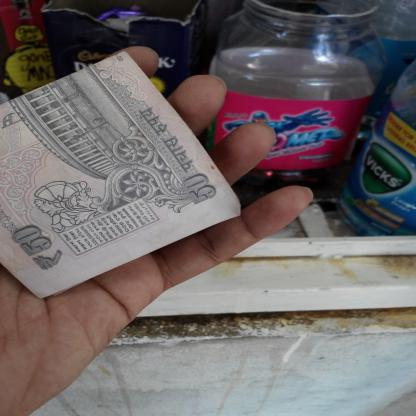Old50Back: (0, 51, 245, 300)
